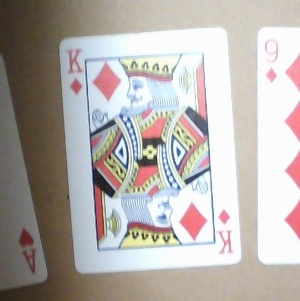card: (57, 26, 242, 275)
